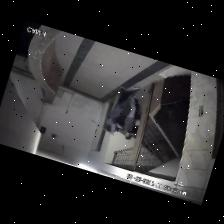person: (107, 86, 140, 131), (123, 96, 136, 138)
